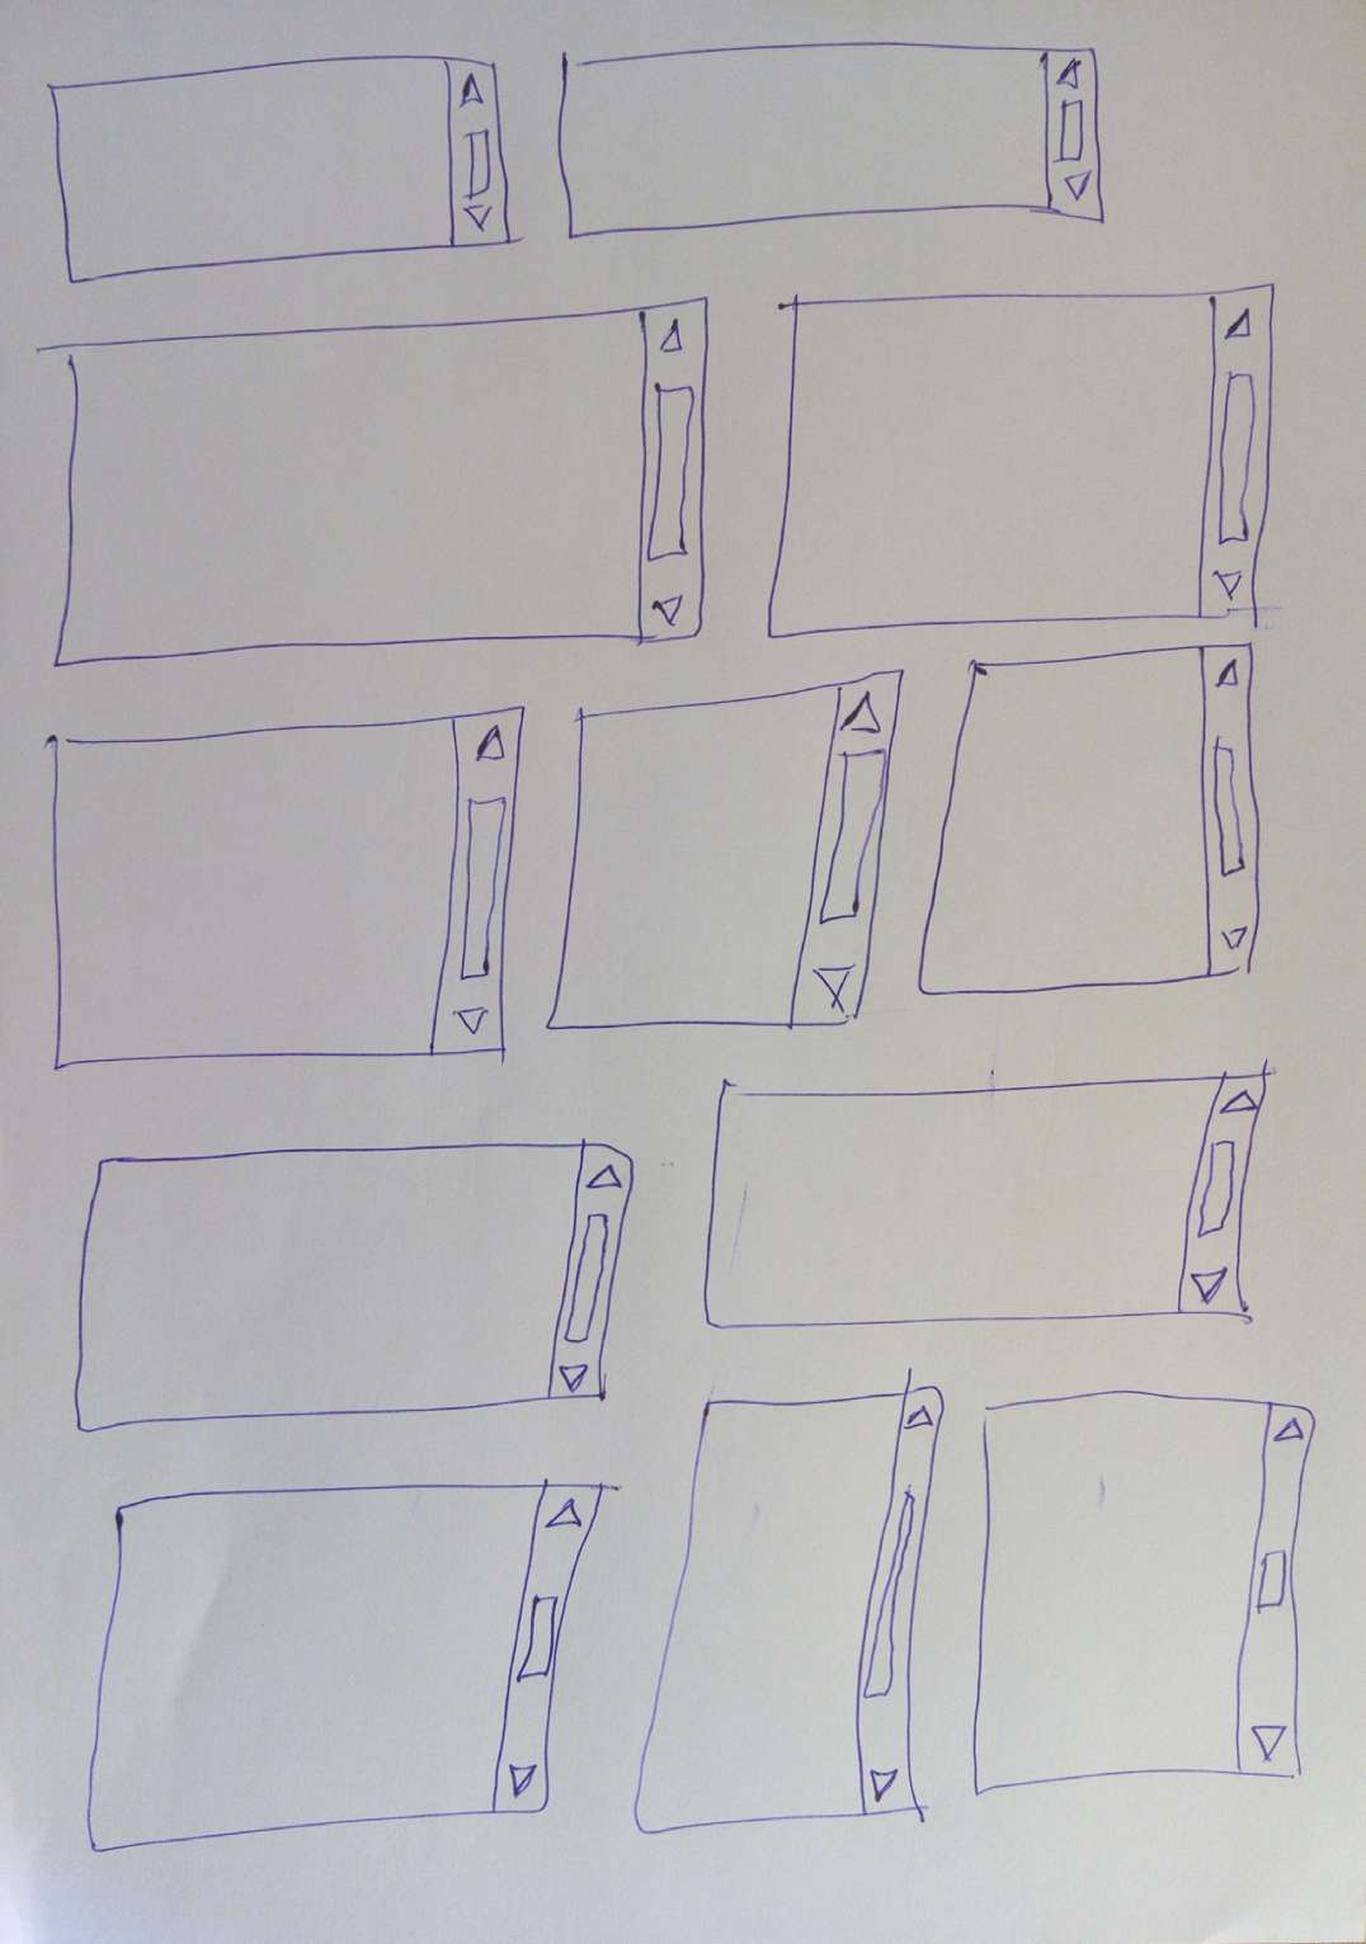Textarea: (35, 296, 710, 667), (87, 1478, 622, 1852), (767, 282, 1274, 639), (41, 707, 525, 1070), (74, 1138, 634, 1432), (704, 1058, 1277, 1329), (634, 1367, 945, 1835), (973, 1390, 1316, 1796), (546, 670, 903, 1030), (918, 642, 1260, 995), (46, 55, 526, 284), (557, 41, 1104, 239)
